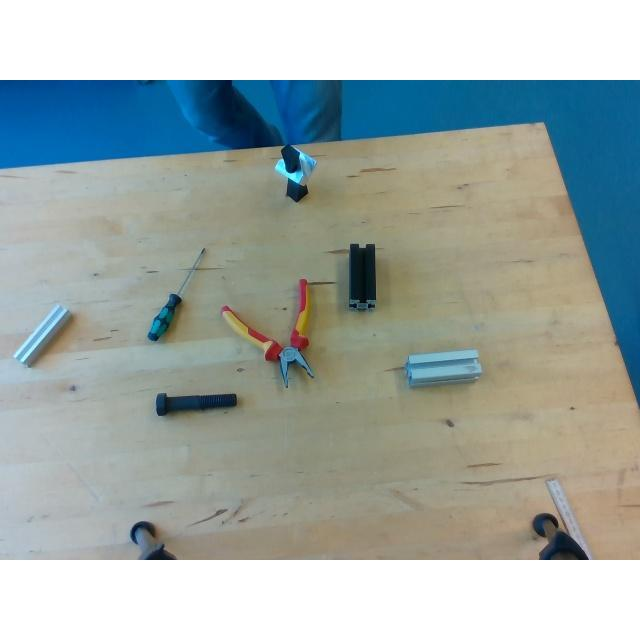F20_20_G: (13, 303, 71, 365)
M20_100: (156, 392, 237, 416)
S40_40_B: (348, 243, 376, 309)
S40_40_G: (406, 349, 482, 386)
Screwdriver: (147, 246, 206, 340)
